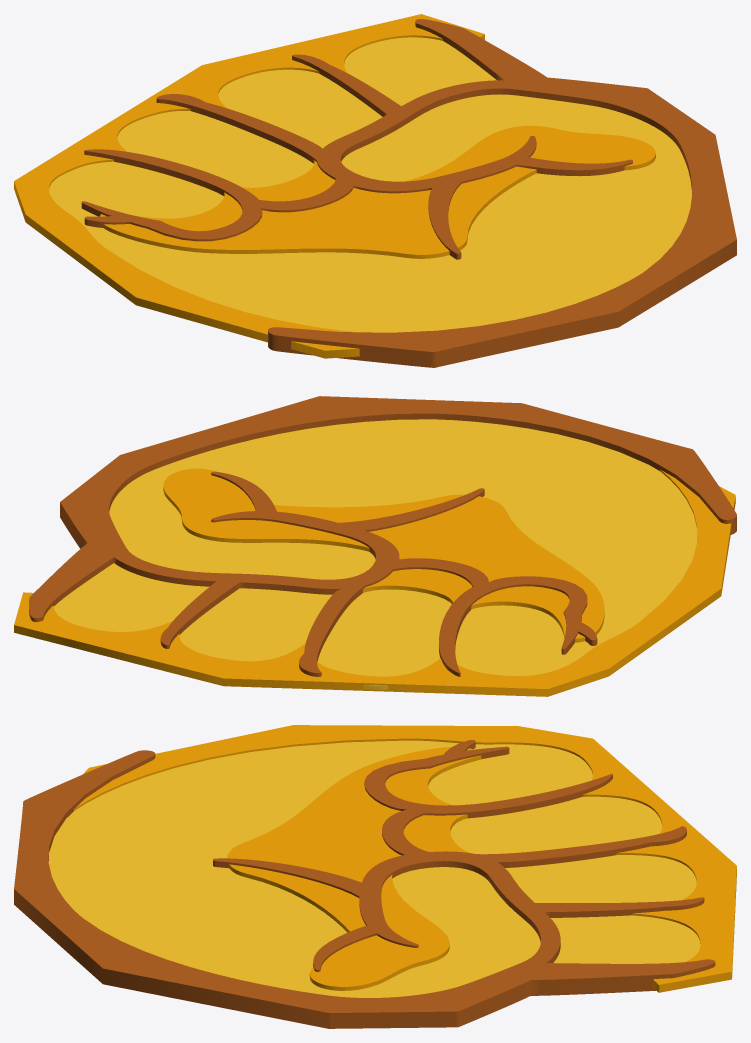
The model's file is emoji_u270a.glb.
The picture shows the model from 3 angles, top to bottom: view 1: azimuth 30°, elevation 25°; view 2: azimuth 150°, elevation 25°; view 3: azimuth 270°, elevation 25°; orthographic projection. The views are drawn at different scales.
Visible parts, largest first — view 1: emoji_u270a; view 2: emoji_u270a; view 3: emoji_u270a.
Boxes of the visible parts, x1=… form: emoji_u270a: x1=14, y1=14, x2=736, y2=367; emoji_u270a: x1=14, y1=396, x2=736, y2=696; emoji_u270a: x1=14, y1=725, x2=736, y2=1028.
Size of the model in its own units: 0.0317 by 0.0008 by 0.0332.
